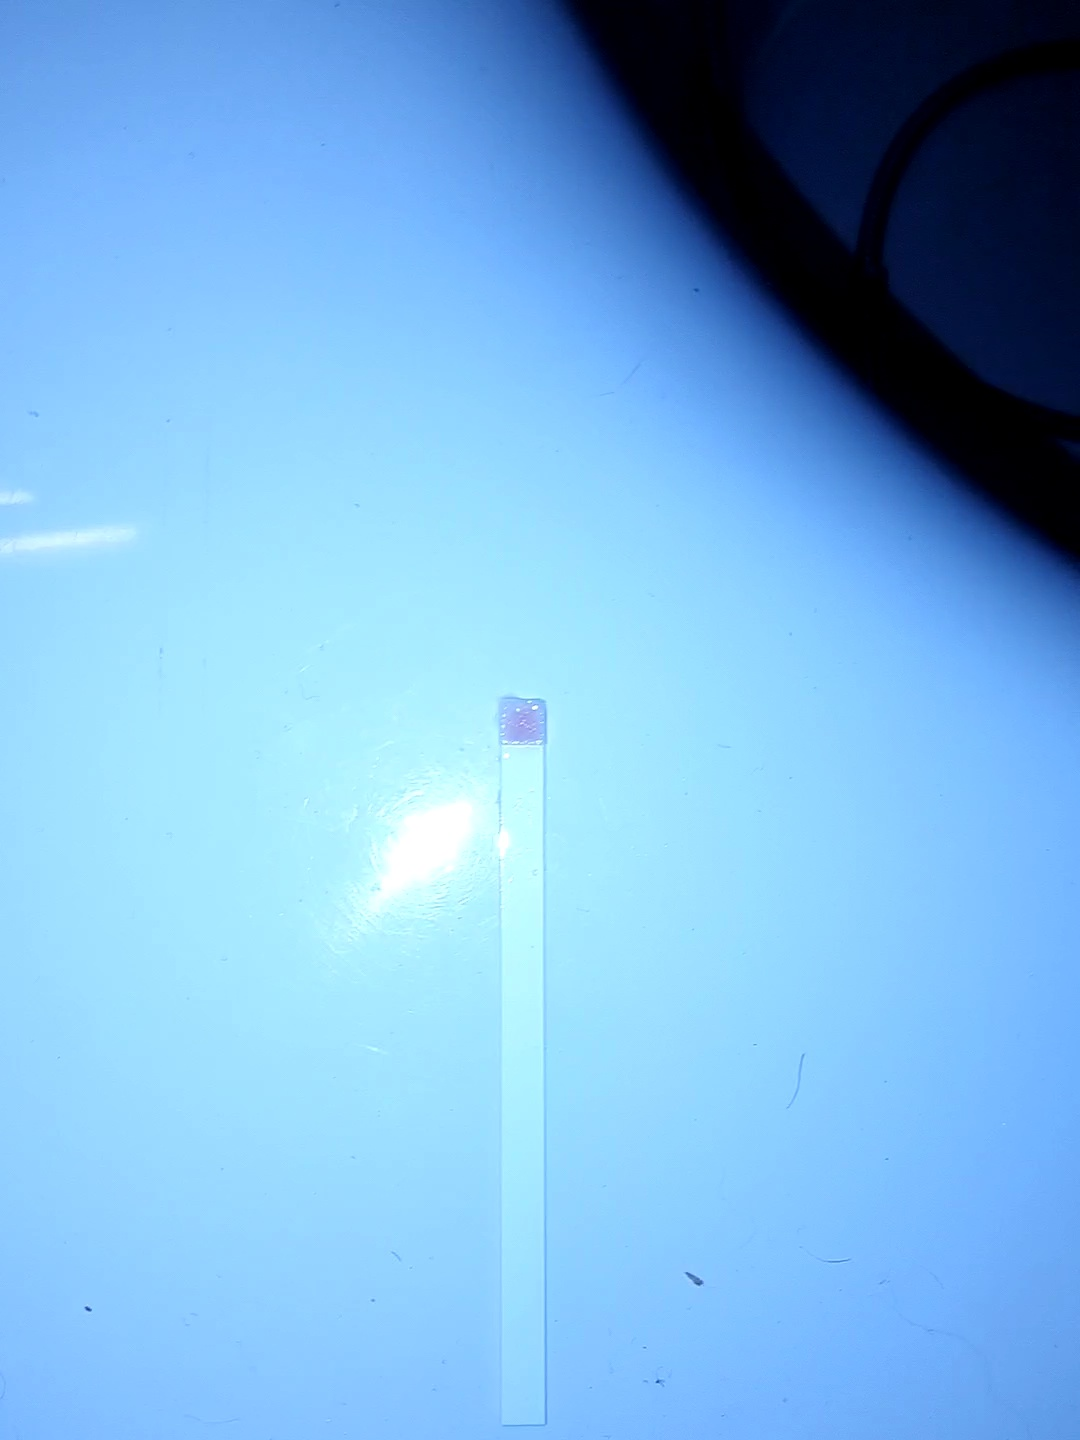keto-tip: (497, 694, 551, 749)
